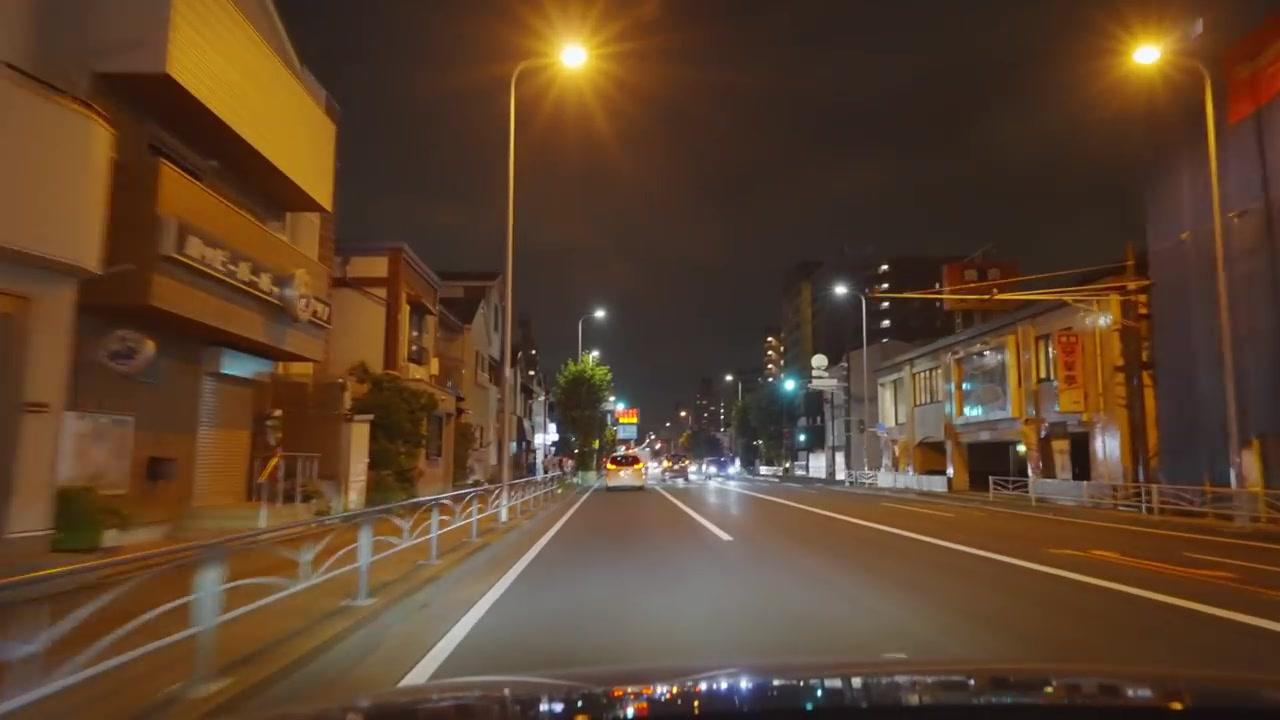bus: (603, 449, 646, 489)
car: (603, 450, 646, 489), (663, 458, 688, 482), (758, 465, 783, 479)
traffic light: (1053, 328, 1085, 413), (761, 334, 785, 382), (782, 374, 798, 399)
